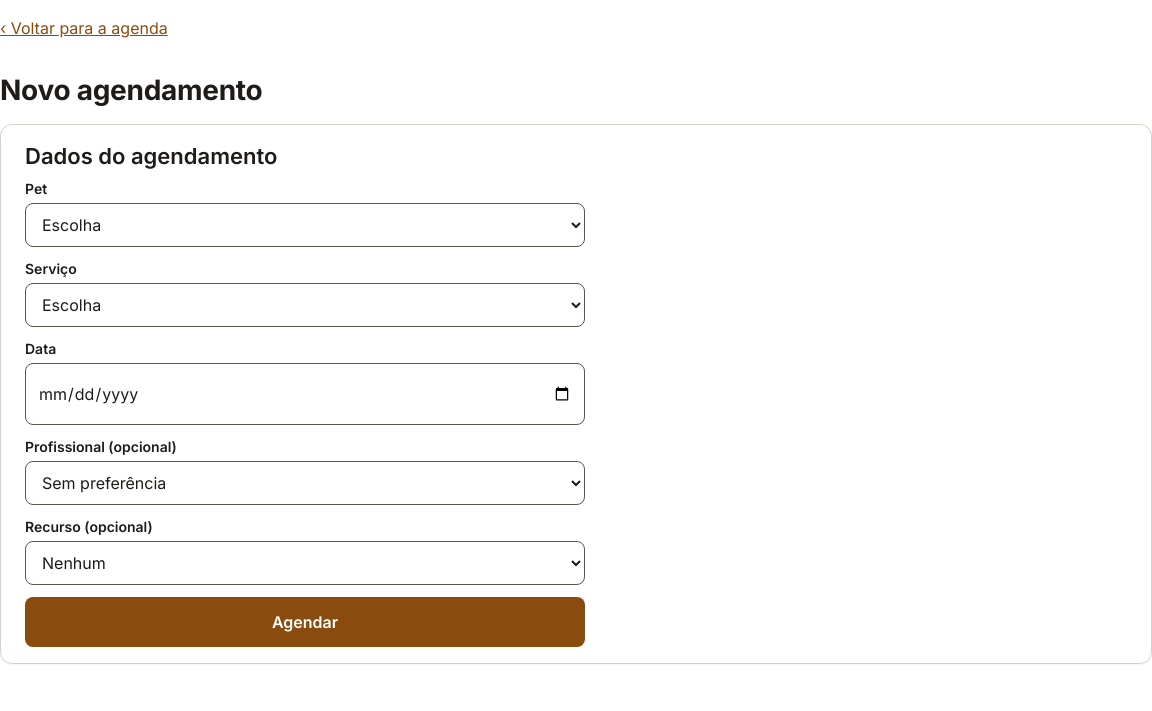
Scenario: UC-39 · Novo agendamento na web › deve avisar quando a data não tem horário livre
Select "Thor (Cachorro)" in the dropdown labelled "Pet" at (305, 225), box [25,203,585,247]
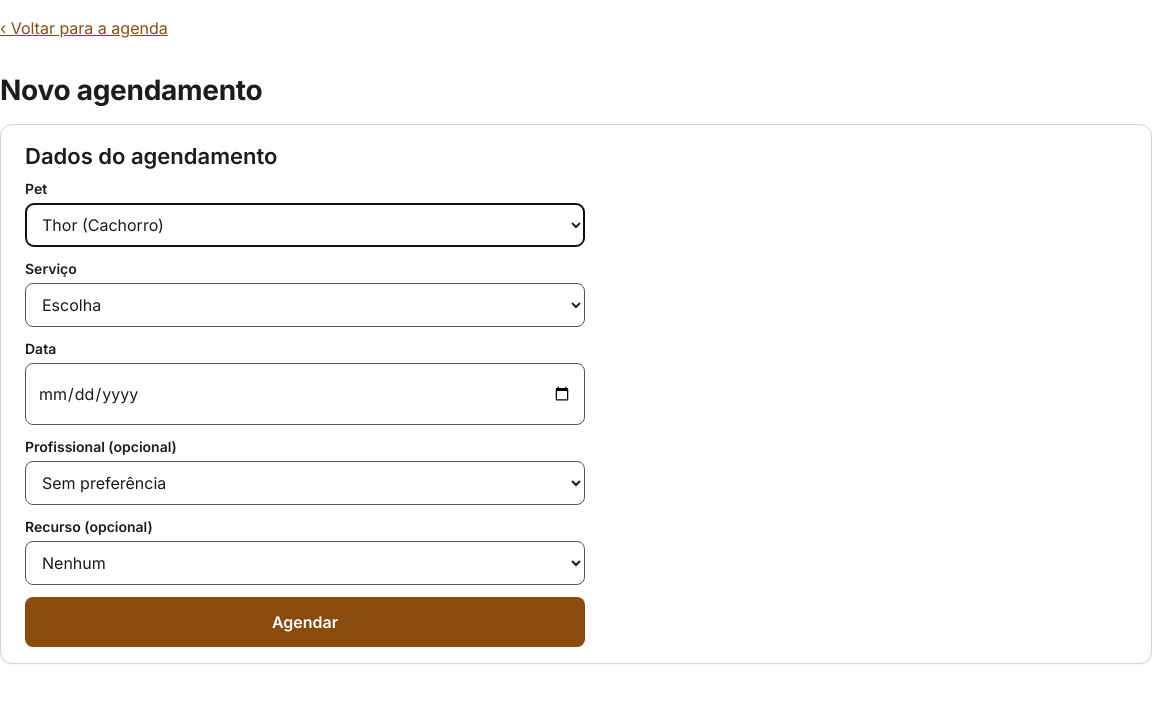
Select "Banho · R$ 60,00 · 60 min" in the dropdown labelled "Serviço" at (305, 305), box [25,283,585,327]
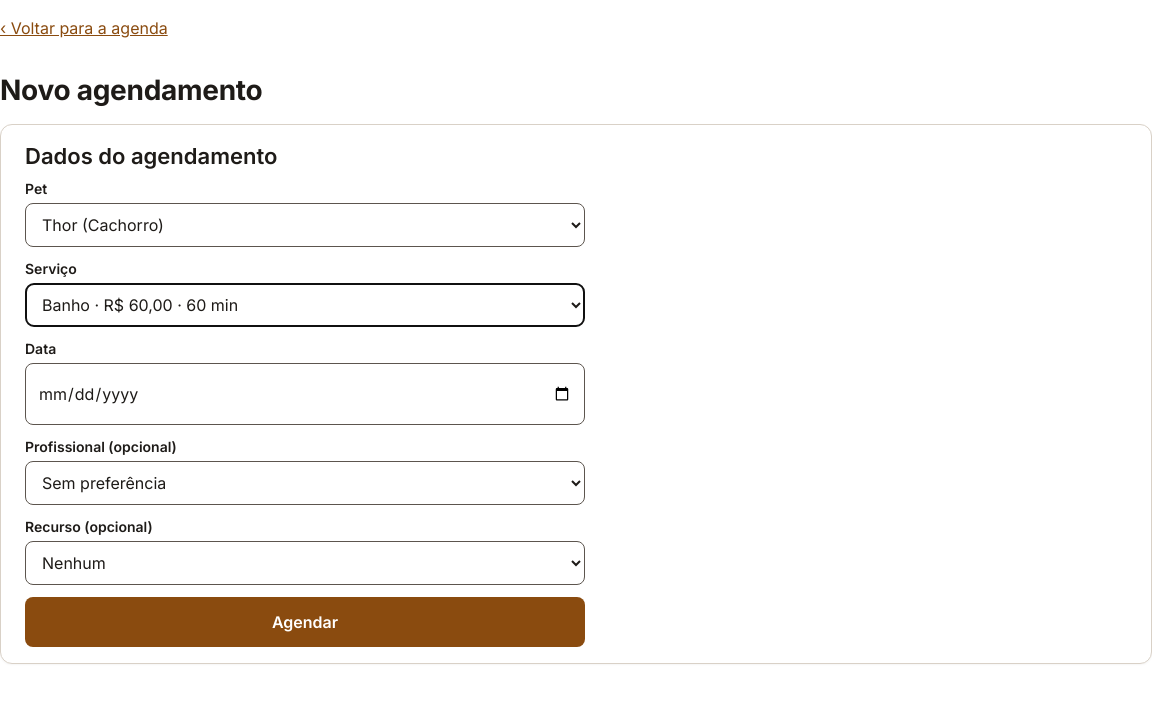
Type "2026-11-26" into the date field labelled "Data" at (305, 394), box [25,363,585,425]
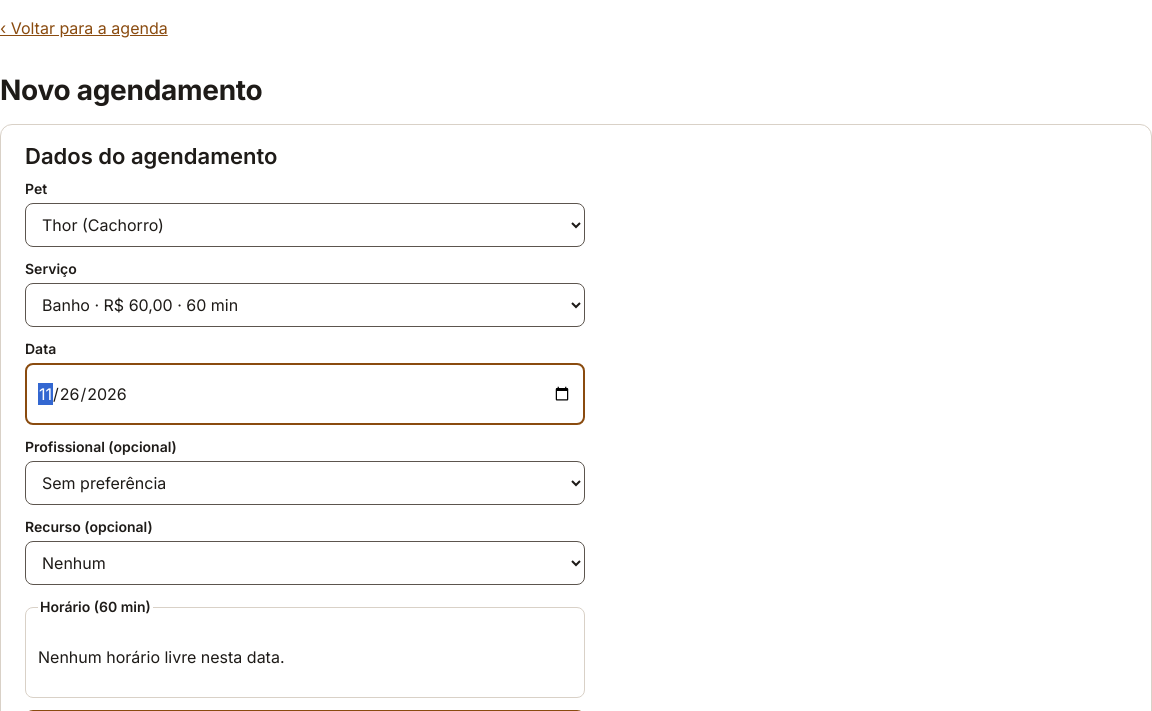
expect the text "Nenhum horário livre nesta data." is shown: met, box [38,645,284,669]
